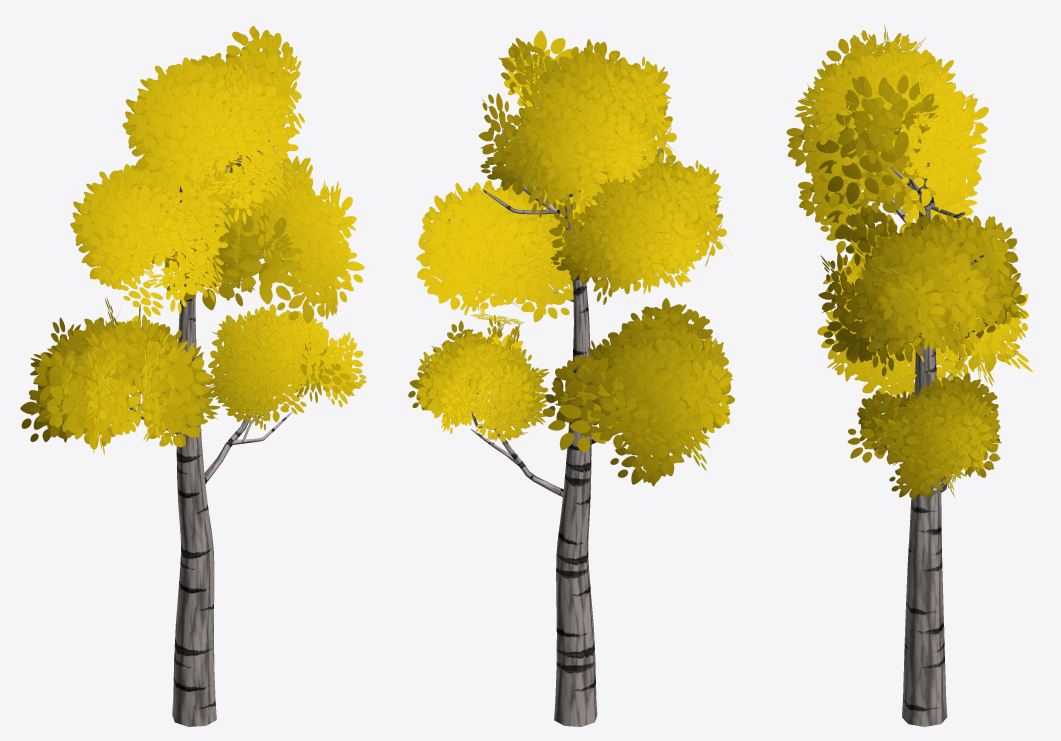
Rendered from birch-tree-01.glb.
3 views of the same model, side by side, from view 1: azimuth 30°, elevation 25°; view 2: azimuth 150°, elevation 25°; view 3: azimuth 270°, elevation 25° (orthographic). The views are drawn at different scales.
Parts seen in each view (by area): view 1: BirchTree_1; view 2: BirchTree_1; view 3: BirchTree_1.
Part boxes in pixels (<box>): BirchTree_1: <box>20,26,365,726</box>; BirchTree_1: <box>408,30,734,726</box>; BirchTree_1: <box>786,24,1032,726</box>.
Bounding box in the file's own units: 2.71 × 5.45 × 1.94.
2 materials, 2 textured.
